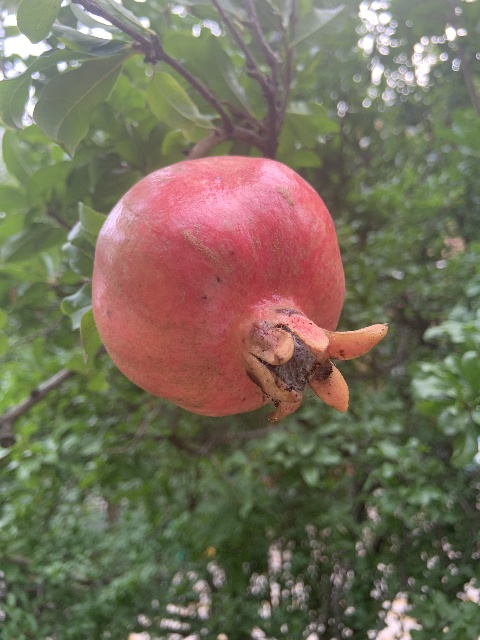ripe: (90, 155, 386, 424)
